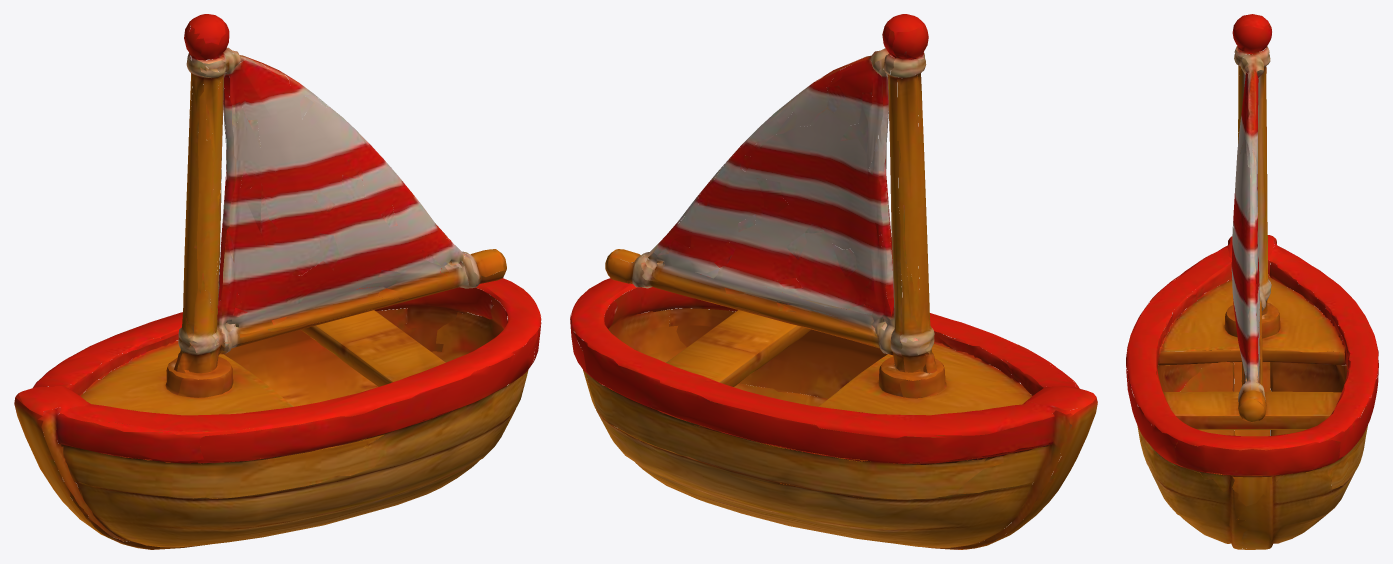
Rendered from boat.glb.
The picture shows the model from 3 angles, left to right: view 1: azimuth 30°, elevation 25°; view 2: azimuth 150°, elevation 25°; view 3: azimuth 270°, elevation 25°; orthographic projection. The views are drawn at different scales.
Parts seen in each view (by area): view 1: textured_mesh.obj; view 2: textured_mesh.obj; view 3: textured_mesh.obj.
Boxes of the visible parts, bbox=[...] form: textured_mesh.obj: bbox=[14, 14, 541, 549]; textured_mesh.obj: bbox=[570, 14, 1097, 549]; textured_mesh.obj: bbox=[1126, 14, 1378, 549].
Size of the model in its own units: 1 by 1 by 0.5097.
Materials: 1 (1 with a texture image).
